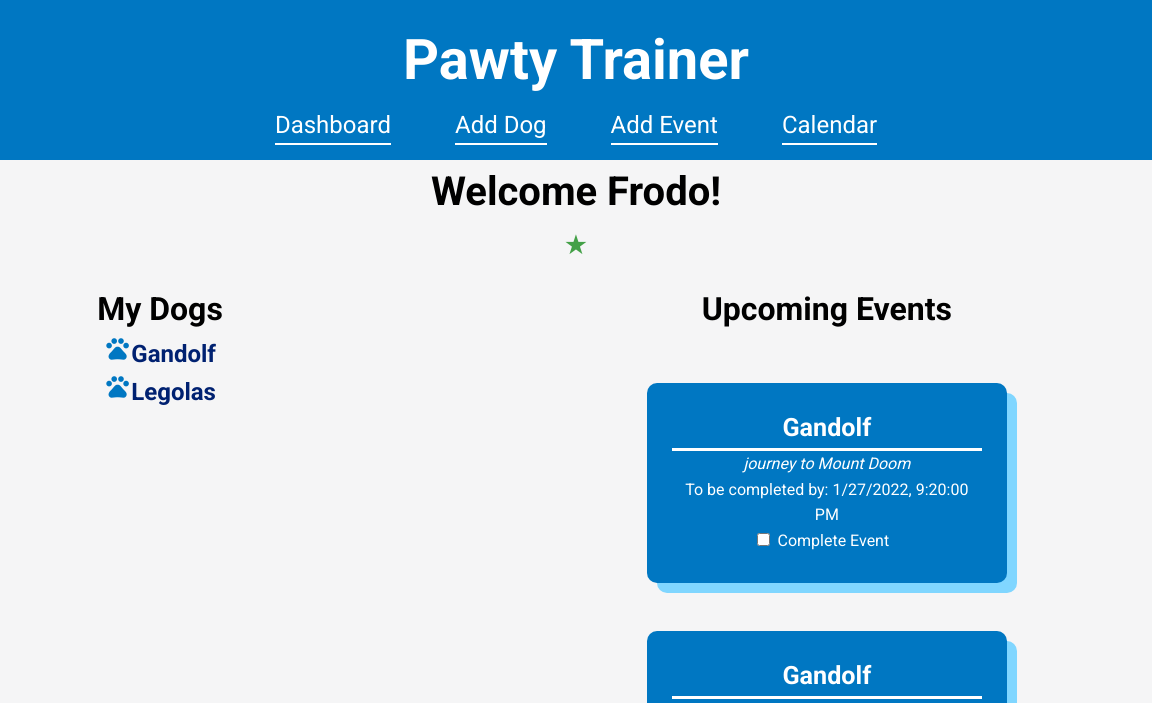
Test: Add Dog View › Should show an error message if an input is missing
Click the link with class "add-dog-nav" at {"x": 501, "y": 129}, box [455,111,547,146]
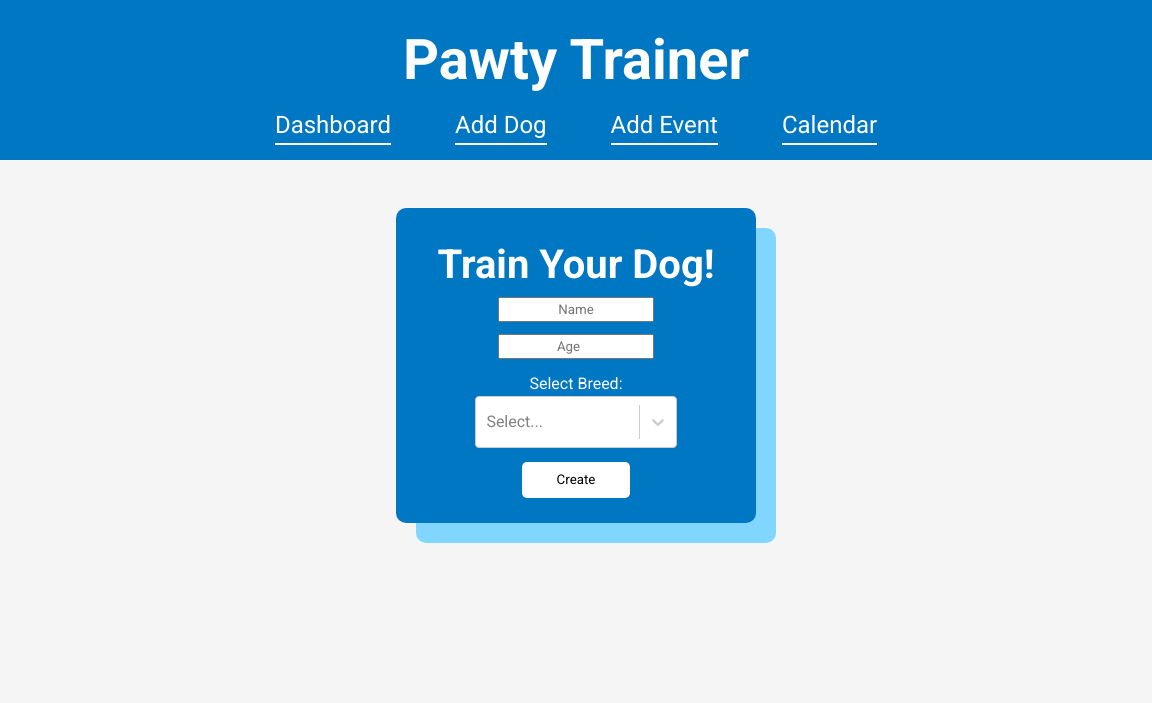
Type "Izzy" into the field with class "name-input" at {"x": 576, "y": 310}, box [498,297,654,322]
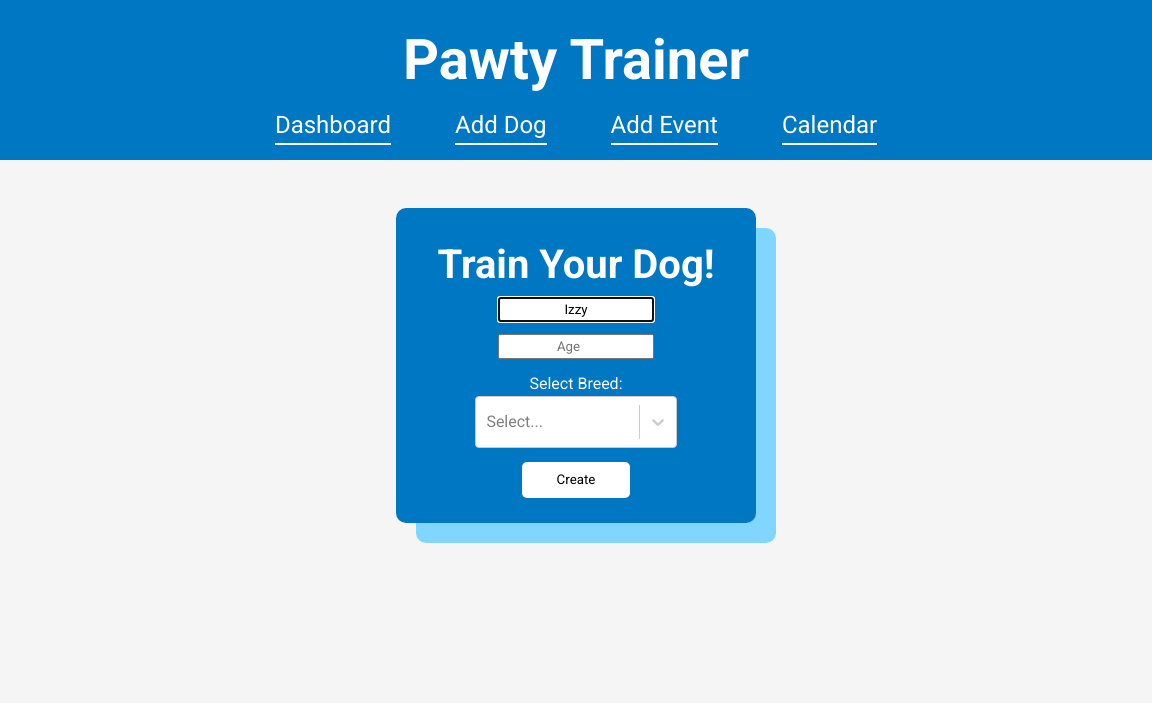
Type "12" into the number field with class "age-input" at {"x": 576, "y": 347}, box [498,334,654,359]
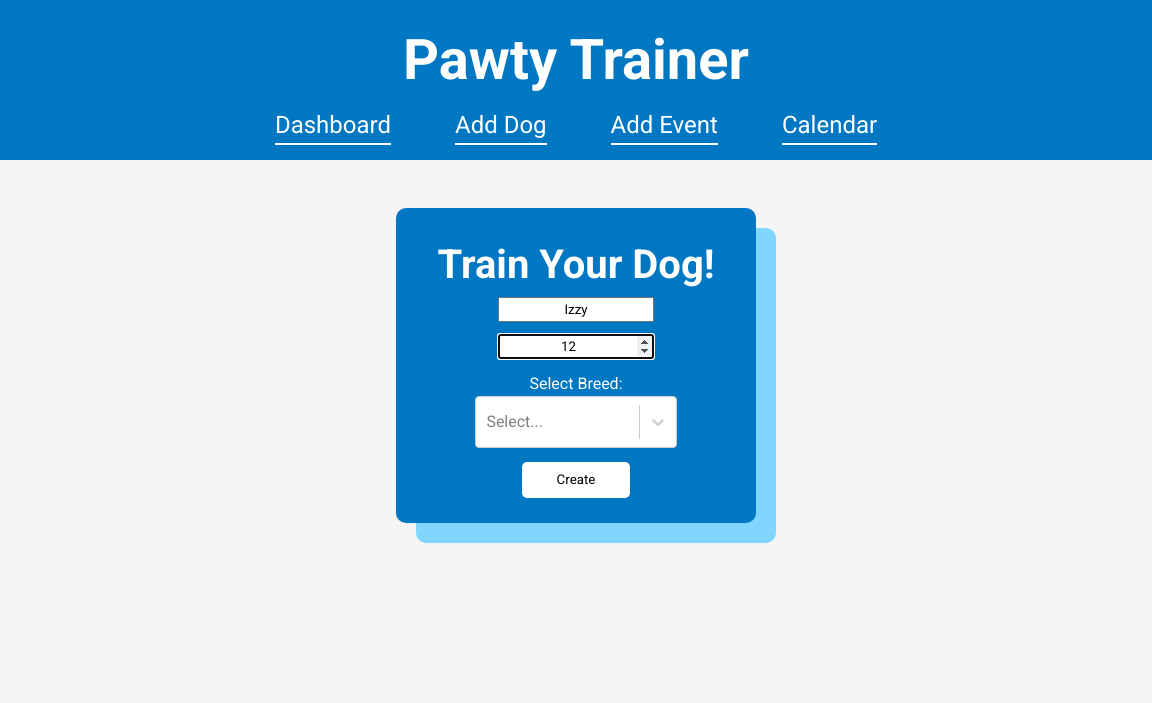
Click the button with class "create-btn" at {"x": 576, "y": 480}, box [522,462,630,498]
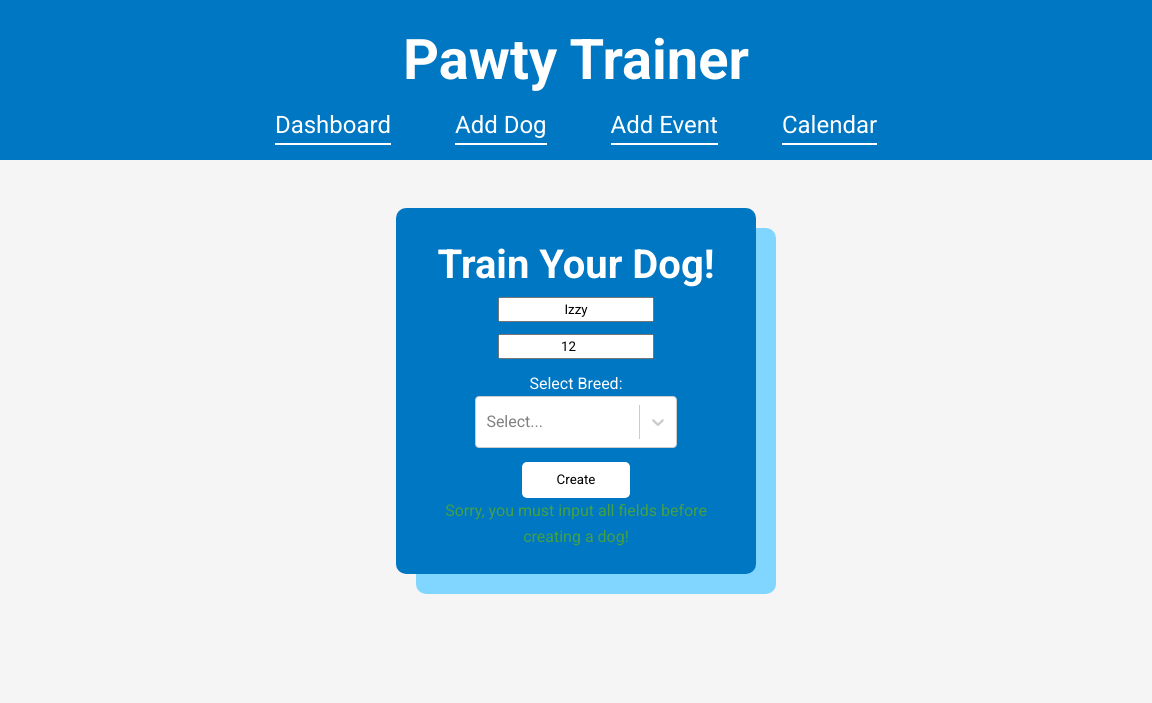
Expected: the text with class "create-dog-error" reads "Sorry, you must input all fields before creating a dog!", [445,501,707,546]
